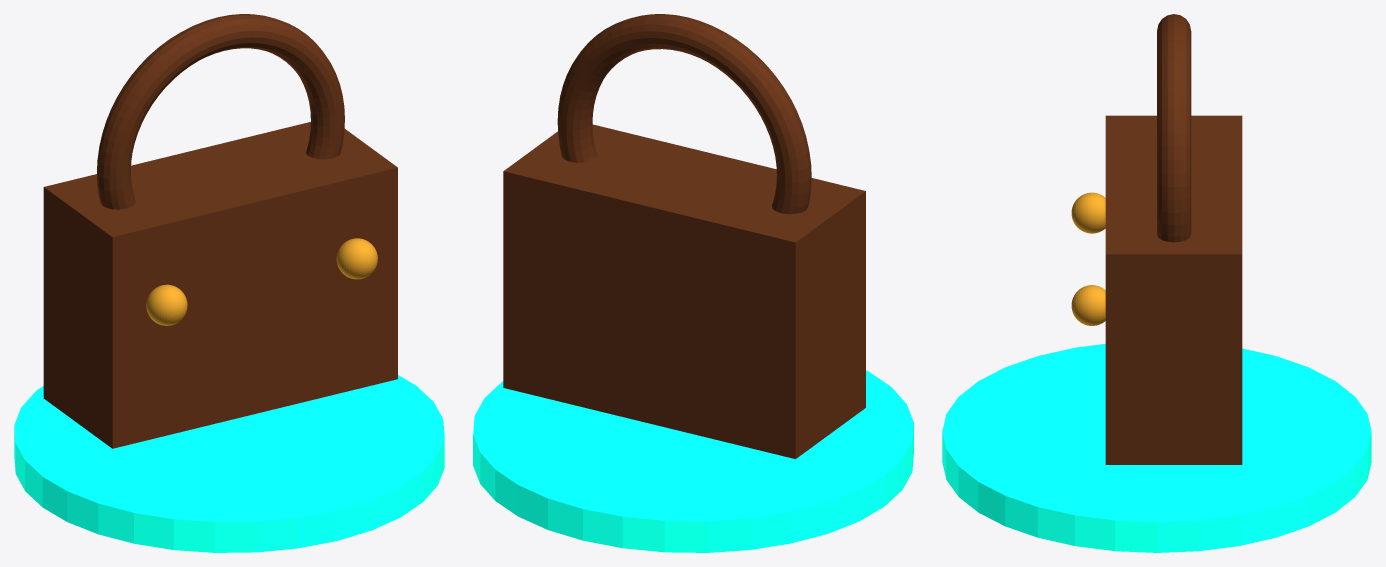
Rendered from fashion_handbag.dae.
3 renders of one model, left to right at view 1: azimuth 30°, elevation 25°; view 2: azimuth 150°, elevation 25°; view 3: azimuth 270°, elevation 25°, orthographic. The views are drawn at different scales.
Visible parts, largest first — view 1: 06_01_Popular_Fashion_Handbag_part_01, 06_01_Popular_Fashion_Handbag_ROOT_base, 06_01_Popular_Fashion_Handbag_part_02, 06_01_Popular_Fashion_Handbag_part_04, 06_01_Popular_Fashion_Handbag_part_03; view 2: 06_01_Popular_Fashion_Handbag_part_01, 06_01_Popular_Fashion_Handbag_ROOT_base, 06_01_Popular_Fashion_Handbag_part_02; view 3: 06_01_Popular_Fashion_Handbag_ROOT_base, 06_01_Popular_Fashion_Handbag_part_01, 06_01_Popular_Fashion_Handbag_part_02, 06_01_Popular_Fashion_Handbag_part_04, 06_01_Popular_Fashion_Handbag_part_03.
Part boxes in pixels (box(x1,y1,x2,y2)): 06_01_Popular_Fashion_Handbag_part_01: box(43, 122, 397, 448); 06_01_Popular_Fashion_Handbag_ROOT_base: box(14, 375, 444, 552); 06_01_Popular_Fashion_Handbag_part_02: box(97, 14, 344, 209); 06_01_Popular_Fashion_Handbag_part_04: box(146, 284, 187, 325); 06_01_Popular_Fashion_Handbag_part_03: box(336, 238, 377, 279); 06_01_Popular_Fashion_Handbag_part_01: box(503, 124, 865, 458); 06_01_Popular_Fashion_Handbag_ROOT_base: box(473, 370, 913, 552); 06_01_Popular_Fashion_Handbag_part_02: box(557, 14, 811, 214); 06_01_Popular_Fashion_Handbag_ROOT_base: box(942, 343, 1371, 552); 06_01_Popular_Fashion_Handbag_part_01: box(1105, 115, 1242, 464); 06_01_Popular_Fashion_Handbag_part_02: box(1157, 14, 1191, 242); 06_01_Popular_Fashion_Handbag_part_04: box(1071, 192, 1105, 233); 06_01_Popular_Fashion_Handbag_part_03: box(1071, 285, 1105, 325).
Size of the model in its own units: 0.76 by 0.85 by 0.76.
